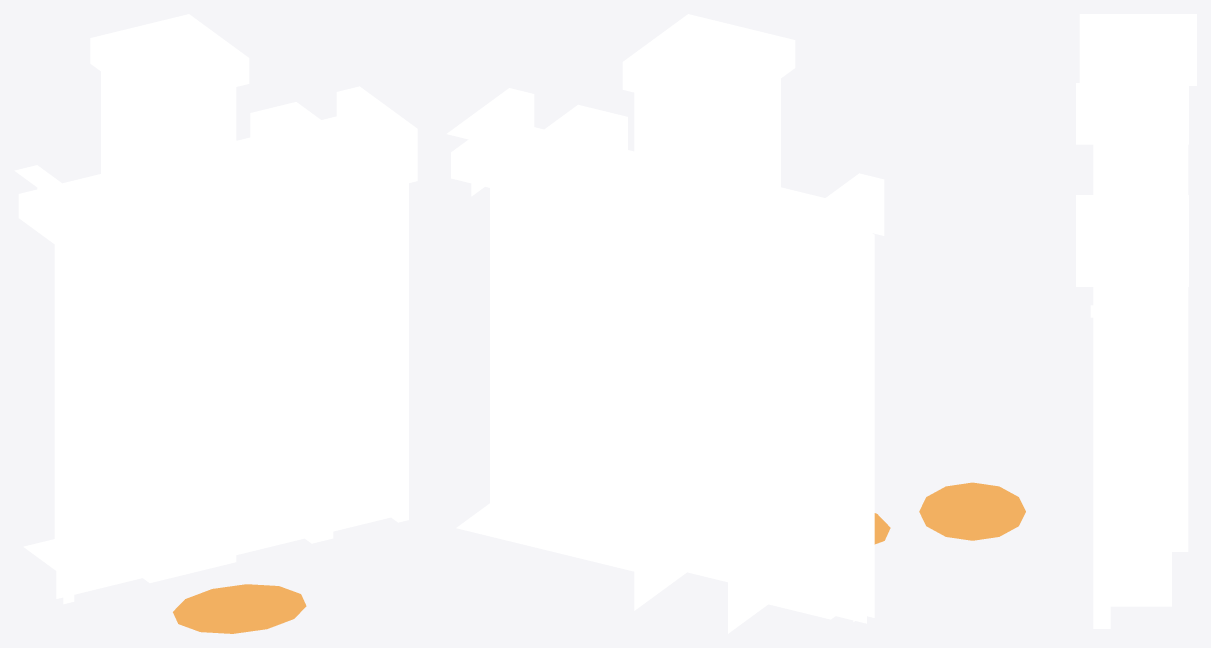
The model's file is T1_Start_B.glb.
The picture shows the model from 3 angles, left to right: view 1: azimuth 30°, elevation 25°; view 2: azimuth 150°, elevation 25°; view 3: azimuth 270°, elevation 25°; orthographic projection. The views are drawn at different scales.
Visible parts, largest first — view 1: T1_Start_B; view 2: T1_Start_B; view 3: T1_Start_B.
Boxes of the visible parts, bbox=[...] form: T1_Start_B: bbox=[14, 14, 417, 633]; T1_Start_B: bbox=[447, 14, 890, 633]; T1_Start_B: bbox=[919, 14, 1196, 628].
Size of the model in its own units: 4.5 by 6.32 by 3.22.
